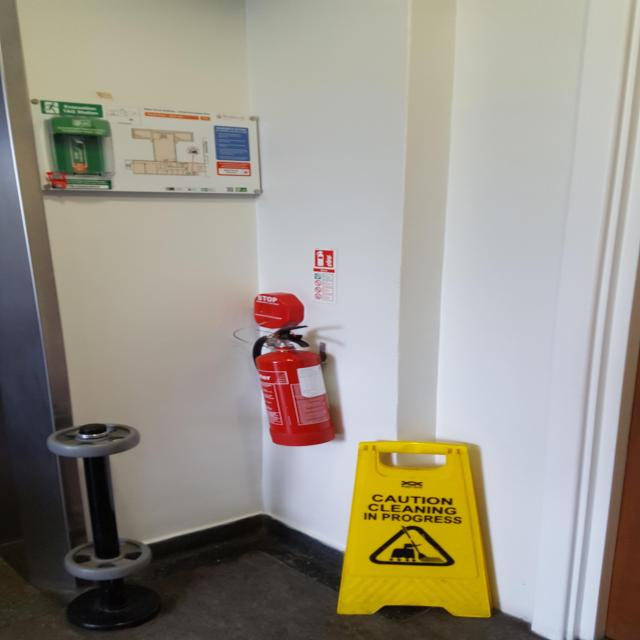fire_extinguisher: (245, 328, 345, 448)
